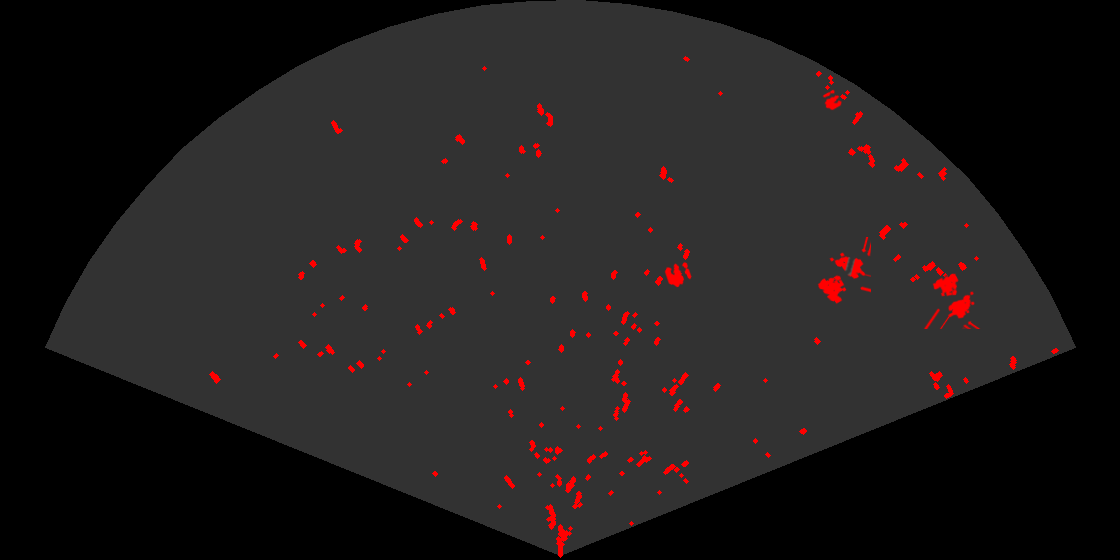ball: (663, 260, 693, 289), (821, 88, 843, 112)
cage: (816, 237, 871, 306), (922, 272, 982, 329)
